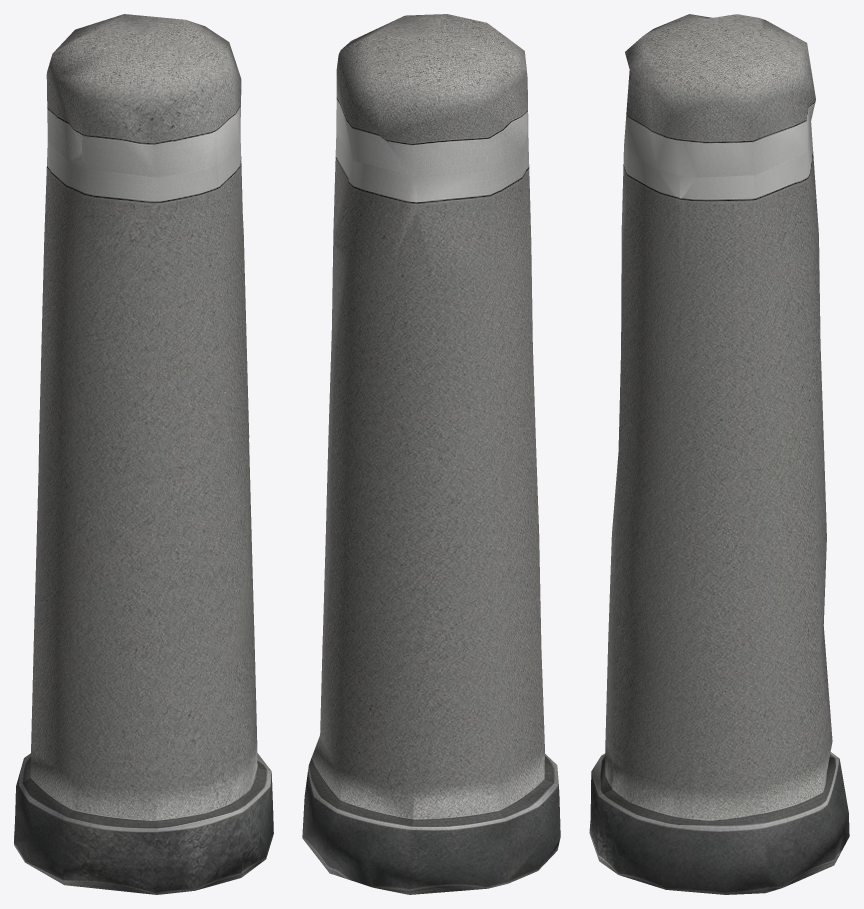
Rendered from bollard2_lod1.glb.
The picture shows the model from 3 angles, left to right: view 1: azimuth 30°, elevation 25°; view 2: azimuth 150°, elevation 25°; view 3: azimuth 270°, elevation 25°; orthographic projection.
Visible parts, largest first — view 1: mesh_node; view 2: mesh_node; view 3: mesh_node.
Boxes of the visible parts, <box> form: mesh_node: <box>14,14,273,894</box>; mesh_node: <box>302,14,560,894</box>; mesh_node: <box>589,14,849,894</box>.
Bounding box in the file's own units: 0.5551 × 1.9 × 0.5544.
Materials: 1 (1 with a texture image).
